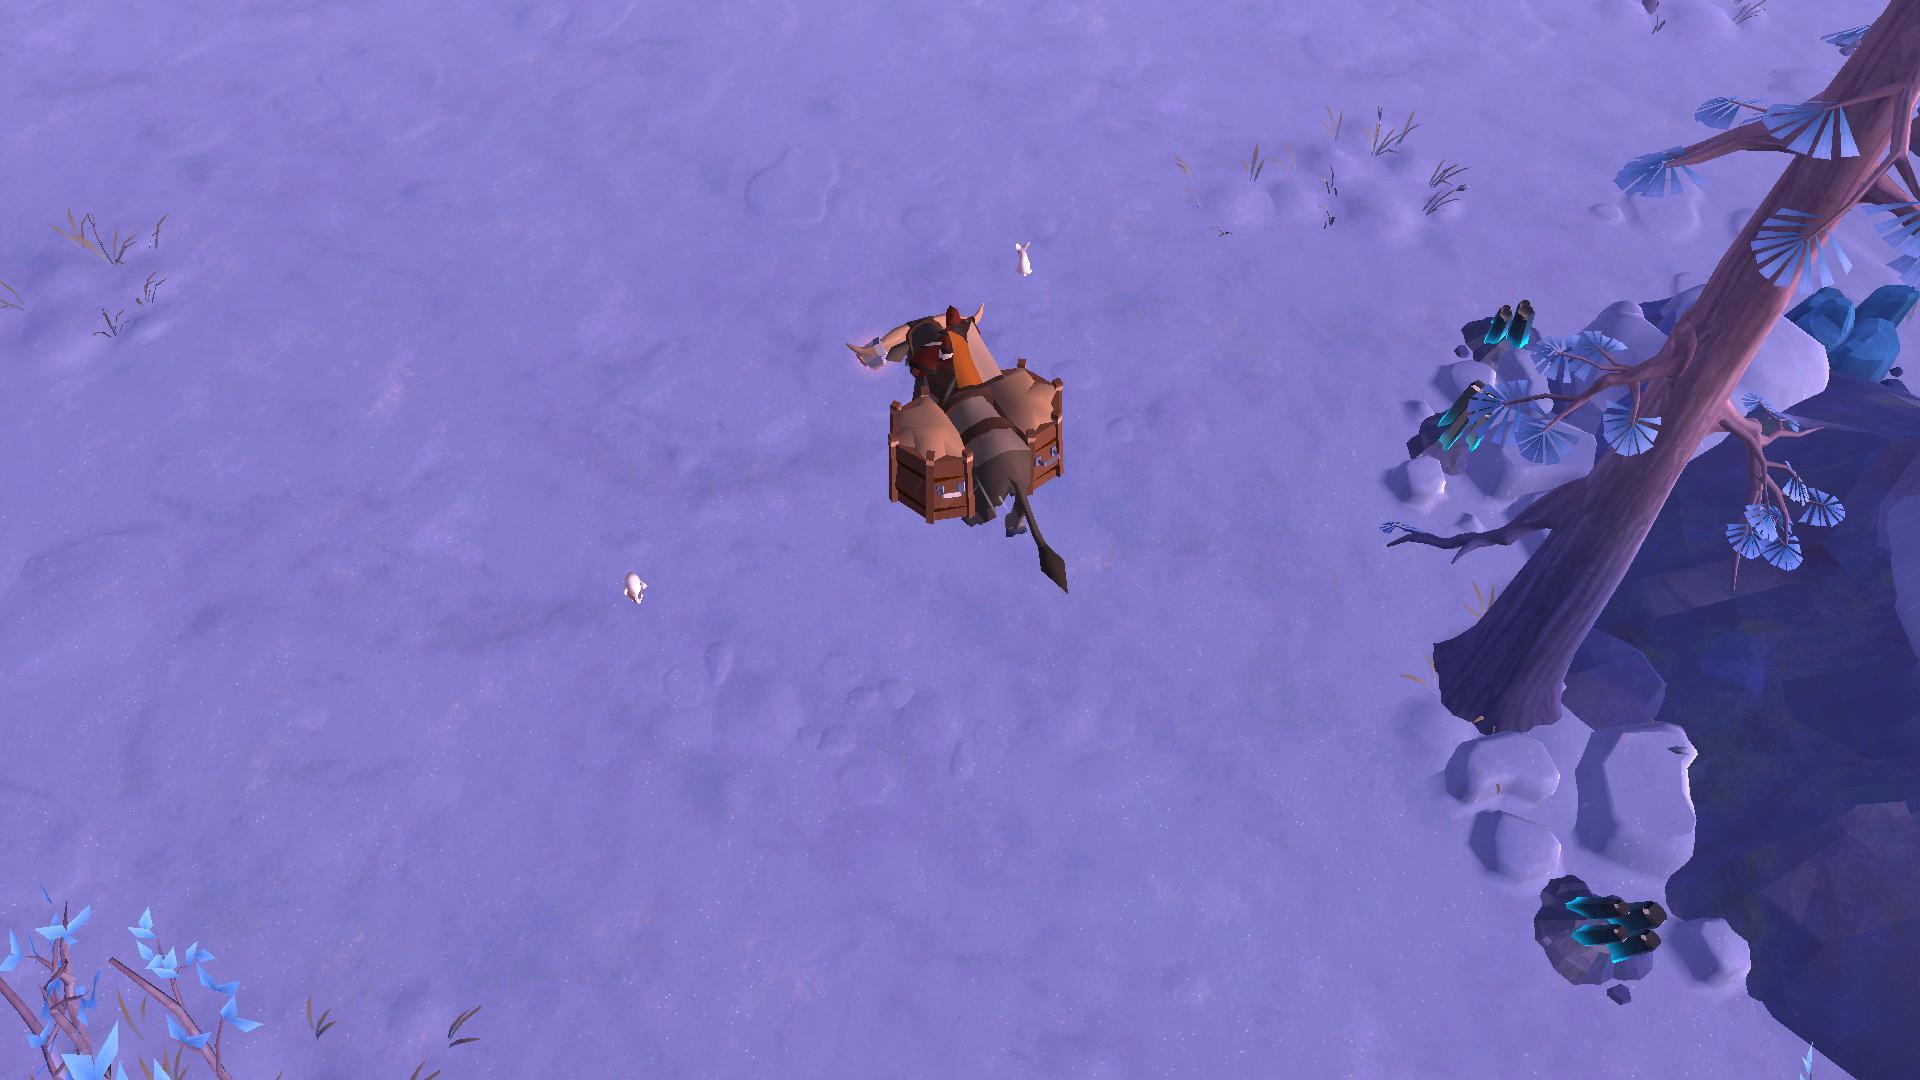ore_t4: (1559, 886, 1660, 971), (1429, 377, 1503, 451), (1481, 299, 1536, 351)
rock_t4: (1784, 277, 1920, 389)
